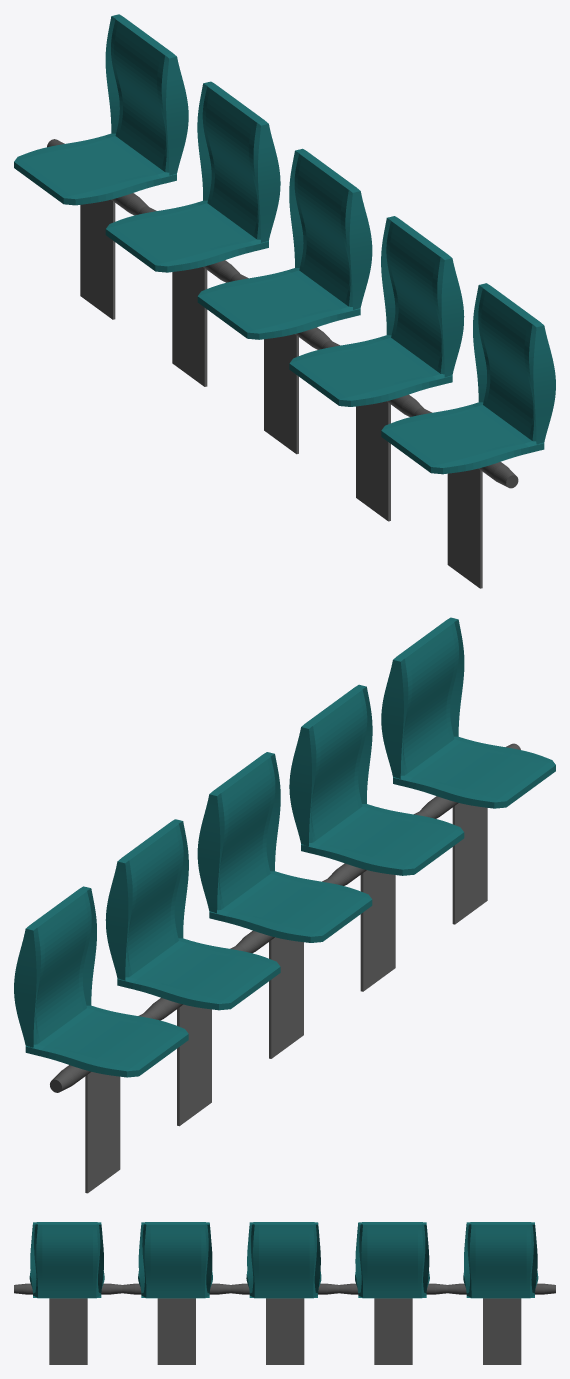
Rendered from train_chair_blender.fbx.
3 views of the same model, one above another, from view 1: azimuth 30°, elevation 25°; view 2: azimuth 150°, elevation 25°; view 3: azimuth 270°, elevation 25° (orthographic). The views are drawn at different scales.
Visible parts, largest first — view 1: Cube; view 2: Cube; view 3: Cube.
Part boxes in pixels (x1,y1,x2,y2): Cube: (14,14,555,588); Cube: (14,617,555,1193); Cube: (14,1222,555,1364).
Size of the model in its own units: 258 by 544 by 1730.
